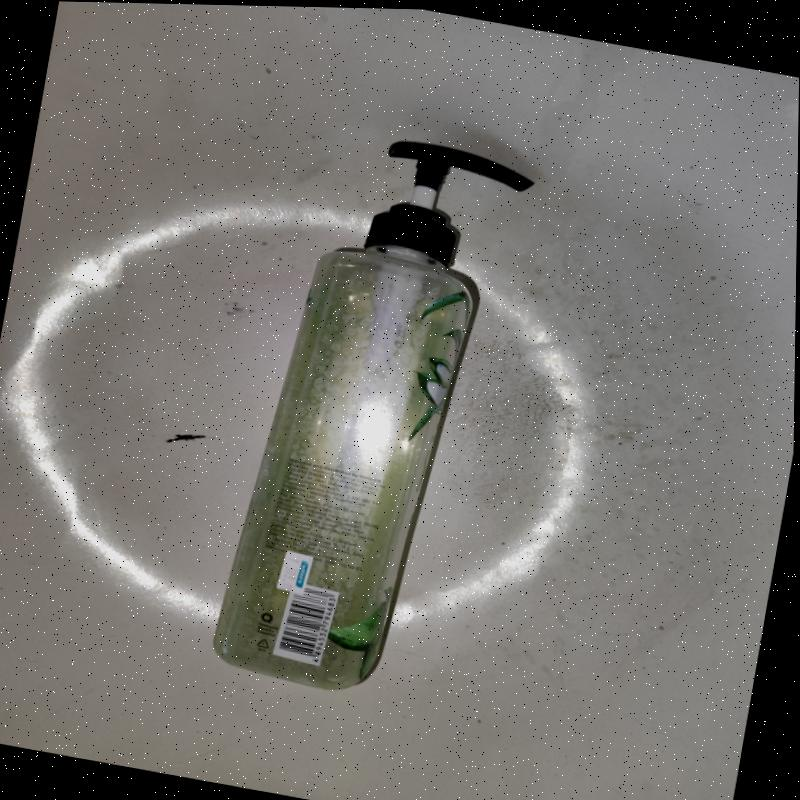plastic bottle: (213, 138, 533, 690)
